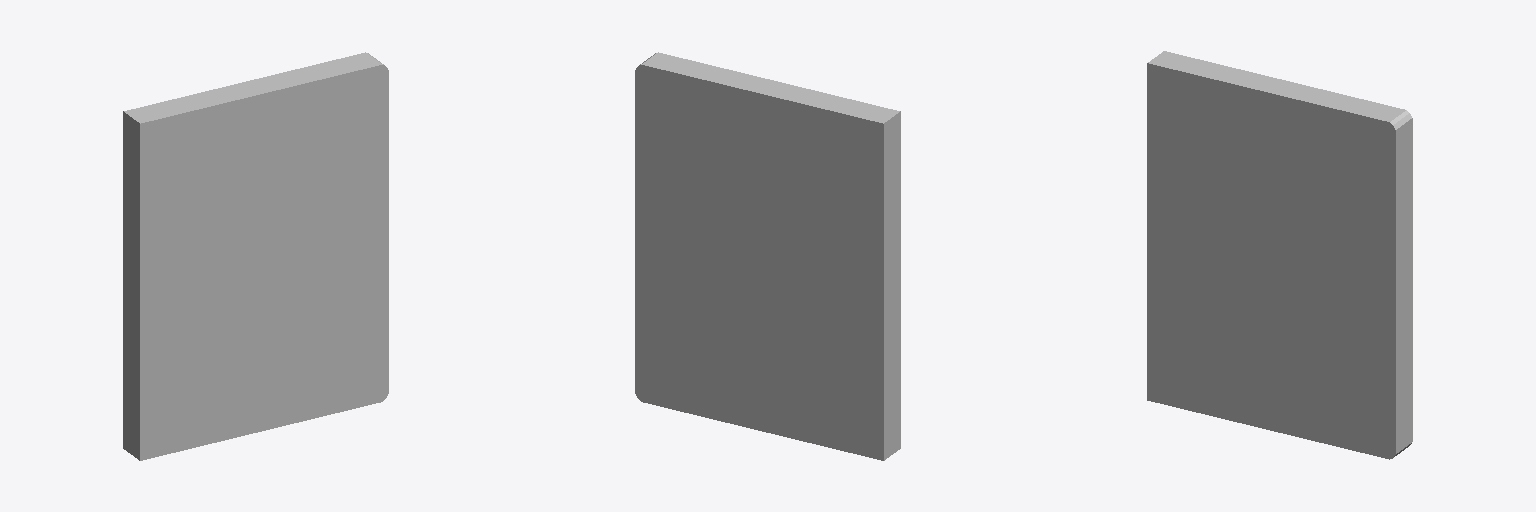
File: box_noreflx.obj
3 renders of one model, left to right at view 1: azimuth 30°, elevation 25°; view 2: azimuth 150°, elevation 25°; view 3: azimuth 330°, elevation 25°, orthographic.
Visible parts, largest first — view 1: g0; view 2: g0; view 3: g0.
Part boxes in pixels (x1,y1,x2,y2): g0: (123, 52, 388, 460); g0: (635, 52, 900, 460); g0: (1147, 51, 1412, 459).
Size of the model in its own units: 1.6 by 2.08 by 0.1872.